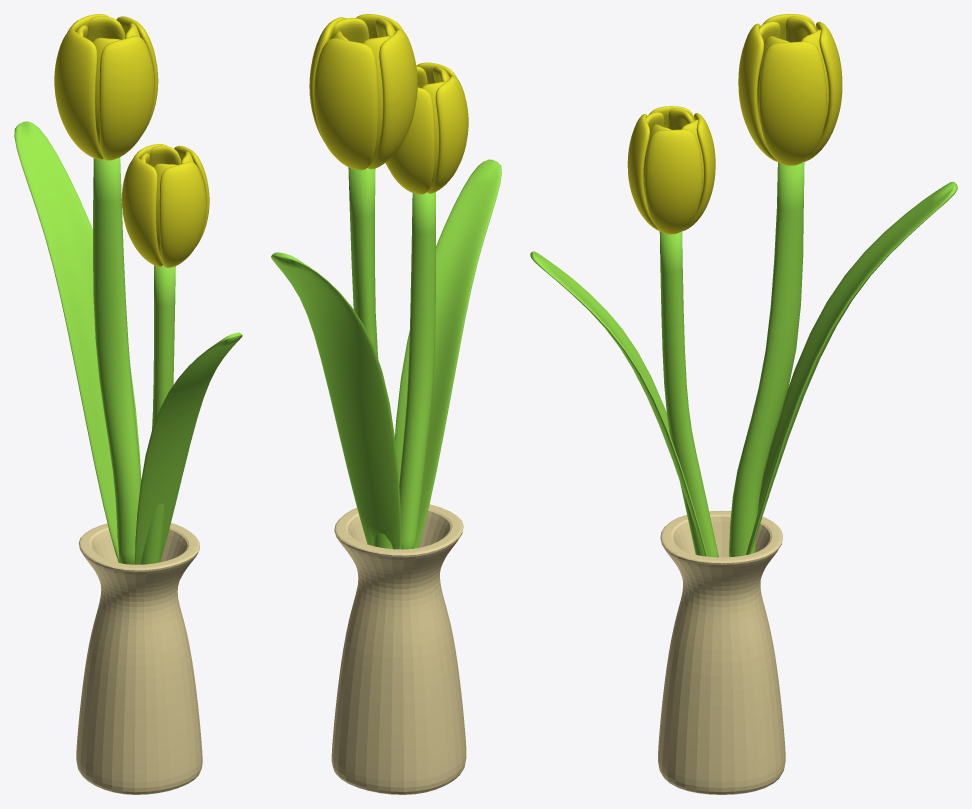
File: vase.fbx
3 views of the same model, side by side, from view 1: azimuth 30°, elevation 25°; view 2: azimuth 150°, elevation 25°; view 3: azimuth 270°, elevation 25° (orthographic). The views are drawn at different scales.
Visible parts, largest first — view 1: Cube, Frunza, Tulpina, Petal1, Petal1.001, Frunza.001, Tulpina.001, Petal2, Petal2.001; view 2: Cube, Frunza, Petal1, Frunza.001, Tulpina.001, Petal1.001, Tulpina, Petal2, Petal2.001; view 3: Cube, Petal1, Tulpina, Petal1.001, Frunza, Tulpina.001, Frunza.001, Petal2, Petal2.001.
Part boxes in pixels (bbox=[...]): Cube: bbox=[76, 523, 202, 794]; Frunza: bbox=[14, 121, 141, 562]; Tulpina: bbox=[93, 157, 141, 564]; Petal1: bbox=[54, 14, 158, 160]; Petal1.001: bbox=[121, 144, 209, 267]; Frunza.001: bbox=[135, 332, 242, 564]; Tulpina.001: bbox=[141, 265, 175, 564]; Petal2: bbox=[75, 16, 139, 159]; Petal2.001: bbox=[139, 145, 193, 257]; Cube: bbox=[331, 504, 466, 794]; Frunza: bbox=[271, 252, 400, 549]; Petal1: bbox=[309, 14, 417, 170]; Frunza.001: bbox=[395, 159, 501, 548]; Tulpina.001: bbox=[399, 192, 435, 549]; Petal1.001: bbox=[385, 62, 468, 194]; Tulpina: bbox=[348, 167, 400, 549]; Petal2: bbox=[331, 18, 395, 155]; Petal2.001: bbox=[416, 66, 449, 182]; Cube: bbox=[658, 510, 785, 794]; Petal1: bbox=[738, 14, 842, 165]; Tulpina: bbox=[729, 162, 804, 557]; Petal1.001: bbox=[627, 106, 715, 234]; Frunza: bbox=[746, 181, 957, 554]; Tulpina.001: bbox=[659, 231, 718, 557]; Frunza.001: bbox=[530, 251, 708, 556]; Petal2: bbox=[757, 16, 828, 123]; Petal2.001: bbox=[643, 108, 703, 197].
Bounding box in the file's own units: 264 × 1694 × 883.
